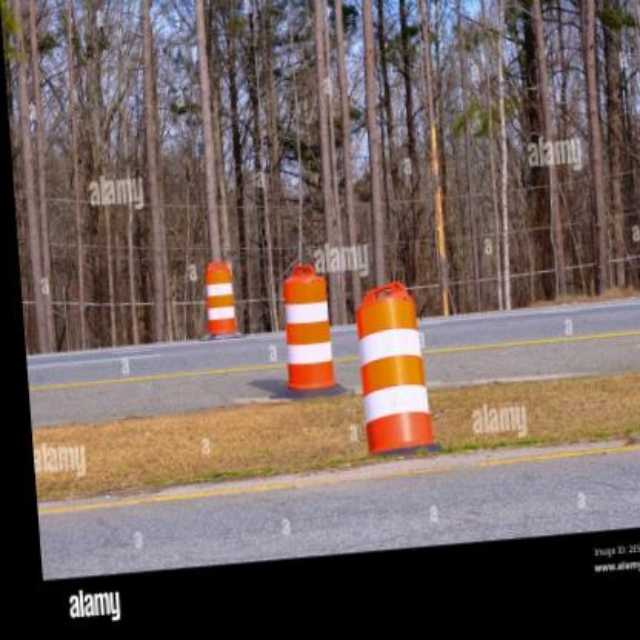obstacle: (344, 289, 429, 459), (273, 272, 338, 404), (194, 255, 233, 347)
